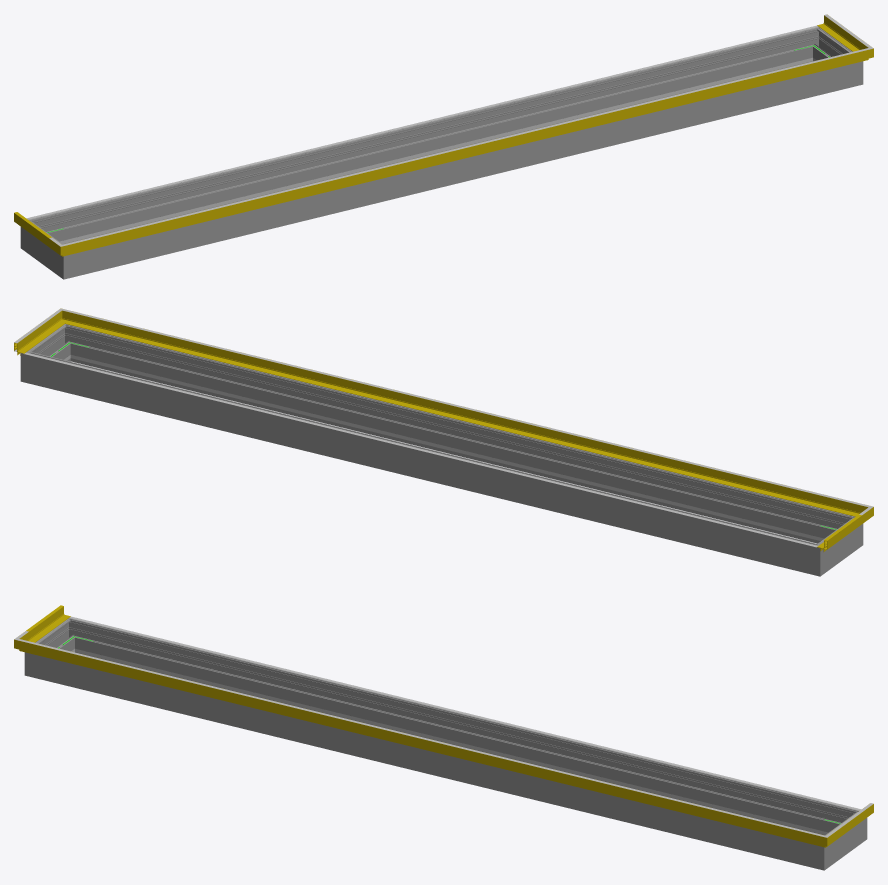
The picture shows the model from 3 angles, top to bottom: view 1: azimuth 30°, elevation 25°; view 2: azimuth 150°, elevation 25°; view 3: azimuth 330°, elevation 25°; orthographic projection.
Visible parts, largest first — view 1: 3DGeom-277, 3DGeom-299, 3DGeom-56, 3DGeom-245, 3DGeom-221, 3DGeom-66, 3DGeom-271, 3DGeom-285, 3DGeom-58, 3DGeom-291; view 2: 3DGeom-299, 3DGeom-277, 3DGeom-56, 3DGeom-240, 3DGeom-221, 3DGeom-66, 3DGeom-279, 3DGeom-285, 3DGeom-58, 3DGeom-291, 3DGeom-298; view 3: 3DGeom-277, 3DGeom-299, 3DGeom-56, 3DGeom-245, 3DGeom-221, 3DGeom-66, 3DGeom-291, 3DGeom-279, 3DGeom-50, 3DGeom-271.
Part boxes in pixels (x1=…): 3DGeom-277: x1=43, y1=31, x2=809, y2=244; 3DGeom-299: x1=84, y1=66, x2=842, y2=274; 3DGeom-56: x1=79, y1=53, x2=853, y2=252; 3DGeom-245: x1=67, y1=62, x2=793, y2=242; 3DGeom-221: x1=26, y1=25, x2=818, y2=219; 3DGeom-66: x1=79, y1=52, x2=852, y2=241; 3DGeom-271: x1=52, y1=241, x2=83, y2=279; 3DGeom-285: x1=802, y1=27, x2=828, y2=61; 3DGeom-58: x1=817, y1=15, x2=858, y2=50; 3DGeom-291: x1=843, y1=48, x2=863, y2=89; 3DGeom-299: x1=74, y1=328, x2=840, y2=543; 3DGeom-277: x1=41, y1=355, x2=803, y2=571; 3DGeom-56: x1=75, y1=314, x2=851, y2=514; 3DGeom-240: x1=90, y1=359, x2=816, y2=539; 3DGeom-221: x1=24, y1=352, x2=817, y2=547; 3DGeom-66: x1=79, y1=313, x2=852, y2=502; 3DGeom-279: x1=800, y1=538, x2=831, y2=576; 3DGeom-285: x1=20, y1=345, x2=44, y2=386; 3DGeom-58: x1=14, y1=318, x2=58, y2=355; 3DGeom-291: x1=55, y1=324, x2=81, y2=361; 3DGeom-298: x1=35, y1=331, x2=68, y2=360; 3DGeom-277: x1=78, y1=622, x2=844, y2=835; 3DGeom-299: x1=45, y1=657, x2=803, y2=865; 3DGeom-56: x1=34, y1=644, x2=808, y2=843; 3DGeom-245: x1=94, y1=653, x2=820, y2=833; 3DGeom-221: x1=69, y1=616, x2=861, y2=810; 3DGeom-66: x1=35, y1=643, x2=808, y2=832; 3DGeom-291: x1=804, y1=832, x2=835, y2=870; 3DGeom-279: x1=59, y1=618, x2=85, y2=652; 3DGeom-50: x1=29, y1=606, x2=70, y2=641; 3DGeom-271: x1=24, y1=639, x2=44, y2=680.
Bounding box in the file's own units: 6.1 × 0.2669 × 0.6096.
